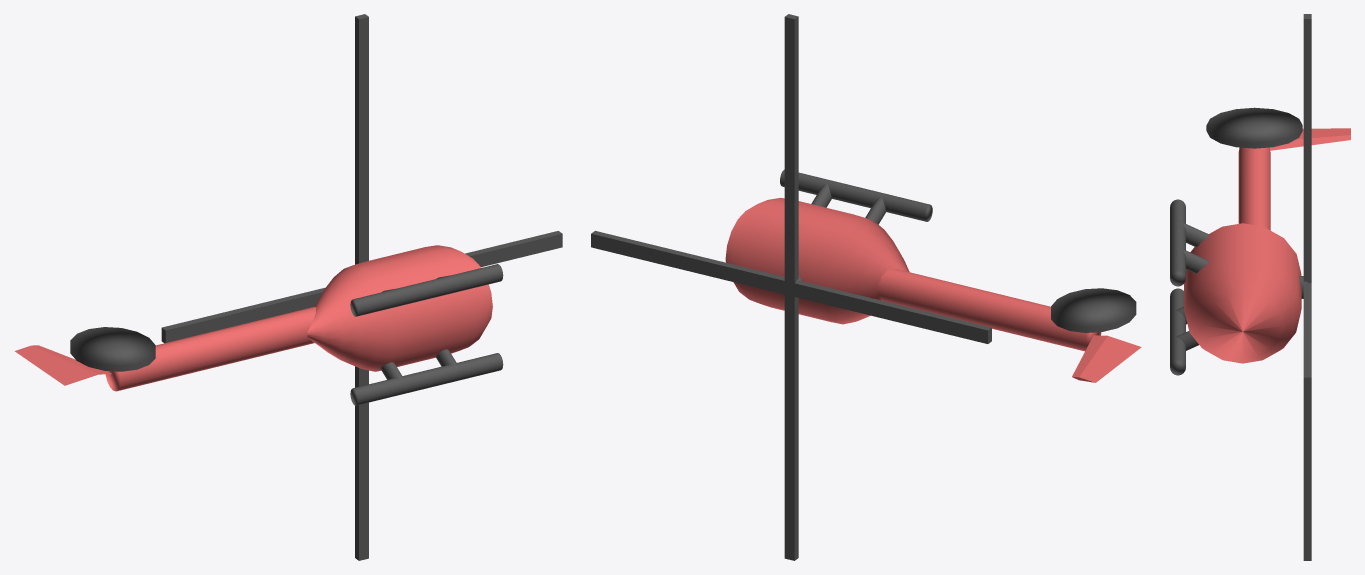
Rendered from C6_HELI_0002.glb.
3 views of the same model, side by side, from view 1: azimuth 30°, elevation 25°; view 2: azimuth 150°, elevation 25°; view 3: azimuth 270°, elevation 25° (orthographic).
Bounding box in the file's own units: 11.19 × 11.05 × 3.34.
